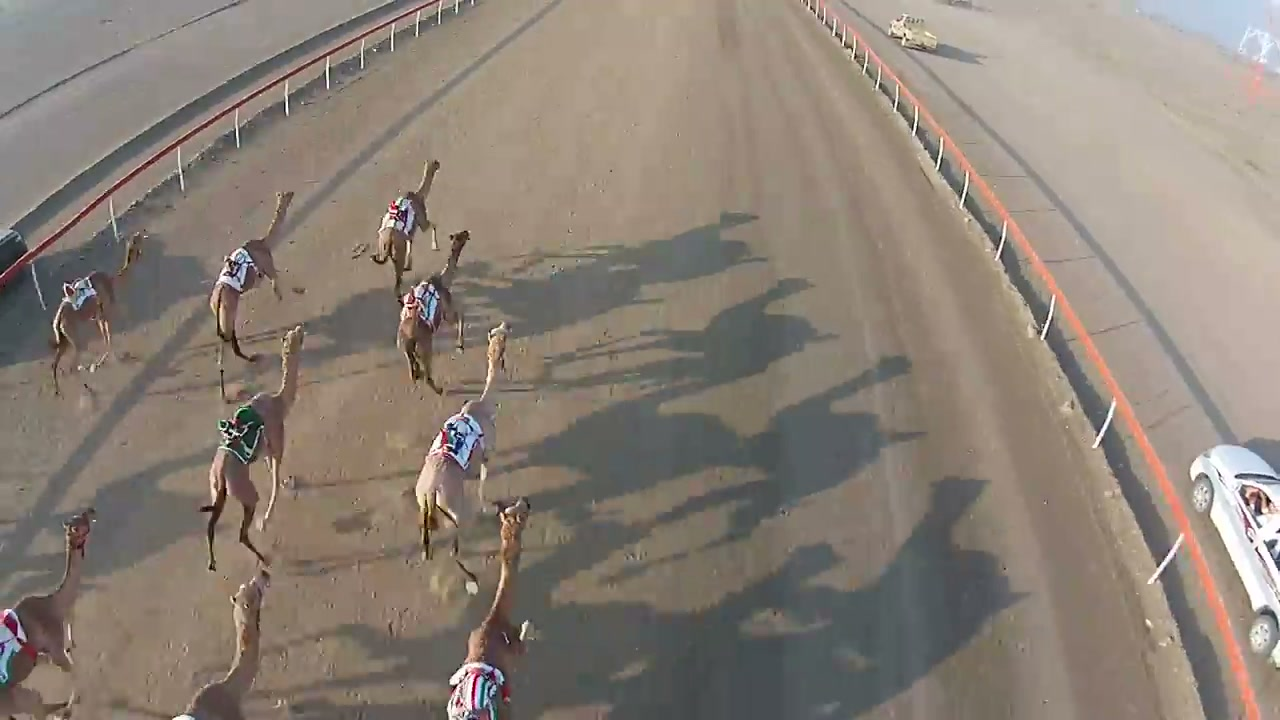animal_footprint: (278, 508, 429, 719)
